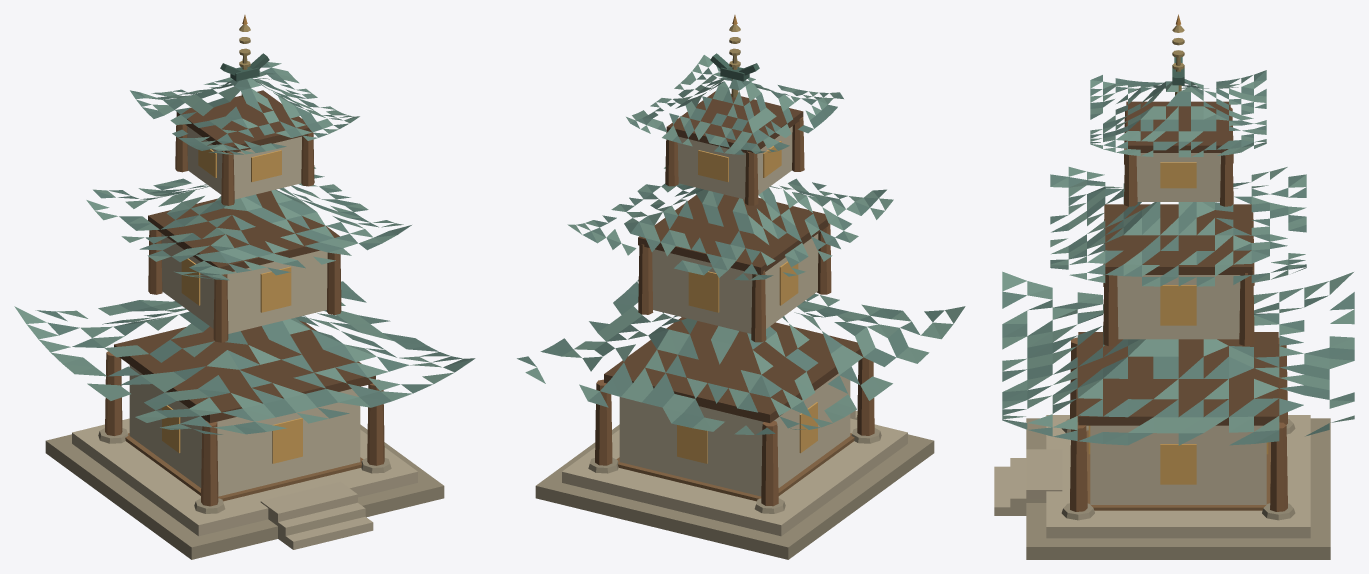
File: pagoda.glb
3 views of the same model, side by side, from view 1: azimuth 30°, elevation 25°; view 2: azimuth 150°, elevation 25°; view 3: azimuth 270°, elevation 25° (orthographic). The views are drawn at different scales.
Visible parts, largest first — view 1: pagoda_body, glow; view 2: pagoda_body, glow; view 3: pagoda_body, glow.
Boxes of the visible parts, box(x1,y1,x2,y2) form: pagoda_body: box(14, 15, 475, 559); glow: box(162, 149, 302, 463); pagoda_body: box(517, 15, 965, 559); glow: box(677, 141, 817, 463); pagoda_body: box(994, 14, 1354, 559); glow: box(1088, 162, 1268, 484).
Bounding box in the file's own units: 8.8 × 13.27 × 9.
